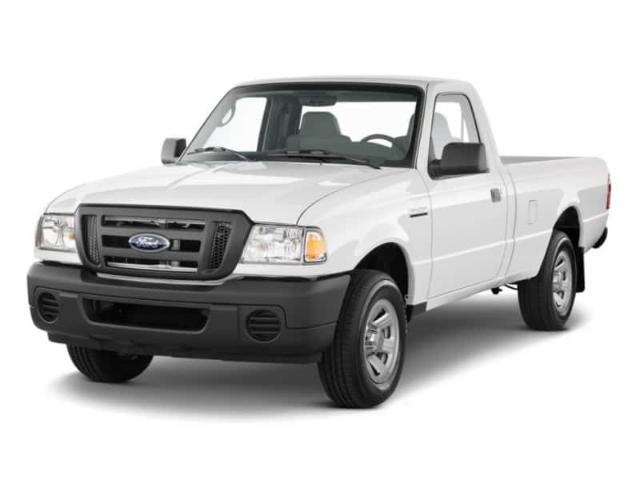pickup-truck: (26, 76, 613, 409)
